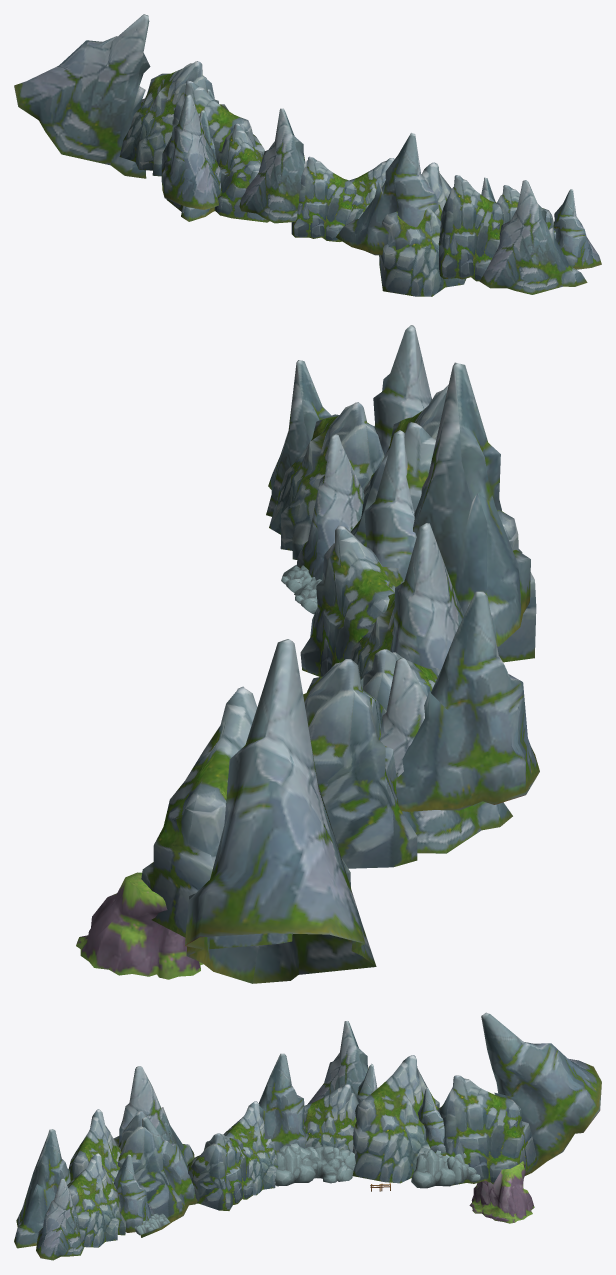
File: yanshi28_1.fbx
The picture shows the model from 3 angles, top to bottom: view 1: azimuth 30°, elevation 25°; view 2: azimuth 150°, elevation 25°; view 3: azimuth 270°, elevation 25°; orthographic projection. The views are drawn at different scales.
Visible parts, largest first — view 1: yanshi28_1; view 2: yanshi28_1; view 3: yanshi28_1.
Part boxes in pixels (left/top/right/bottom): yanshi28_1: left=14, top=14, right=601, bottom=296; yanshi28_1: left=76, top=325, right=539, bottom=983; yanshi28_1: left=14, top=1012, right=601, bottom=1260.
Size of the model in its own units: 4601 by 2406 by 7612.
